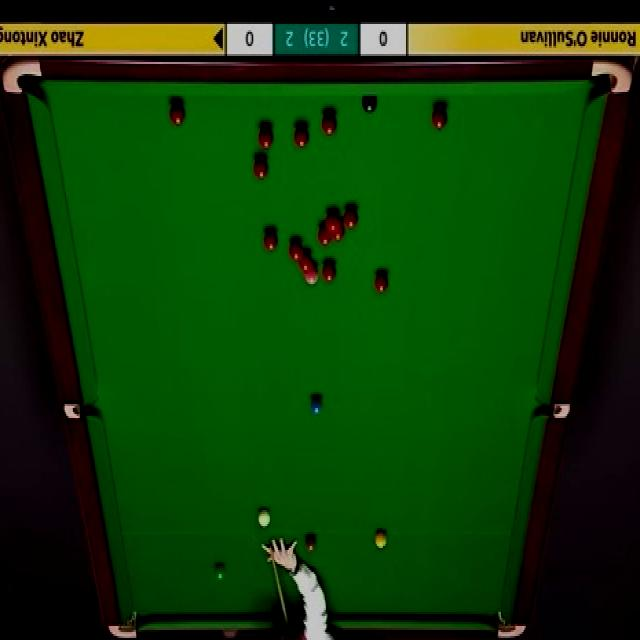black-ball: (361, 95, 378, 114)
blue-ball: (310, 395, 324, 420)
brown-ball: (305, 534, 317, 552)
green-ball: (213, 562, 228, 582)
pink-ball: (304, 264, 317, 286)
red-ball: (168, 101, 186, 129), (431, 106, 448, 131), (258, 125, 274, 151), (294, 124, 309, 149), (264, 228, 279, 253), (344, 208, 359, 232), (322, 112, 336, 137), (318, 222, 332, 246), (254, 157, 268, 180), (289, 239, 303, 262), (374, 272, 388, 294), (298, 252, 312, 274), (322, 262, 336, 281), (326, 210, 339, 230), (332, 222, 345, 242)
white-ball: (257, 504, 273, 532)
yellow-ball: (375, 531, 388, 551)
